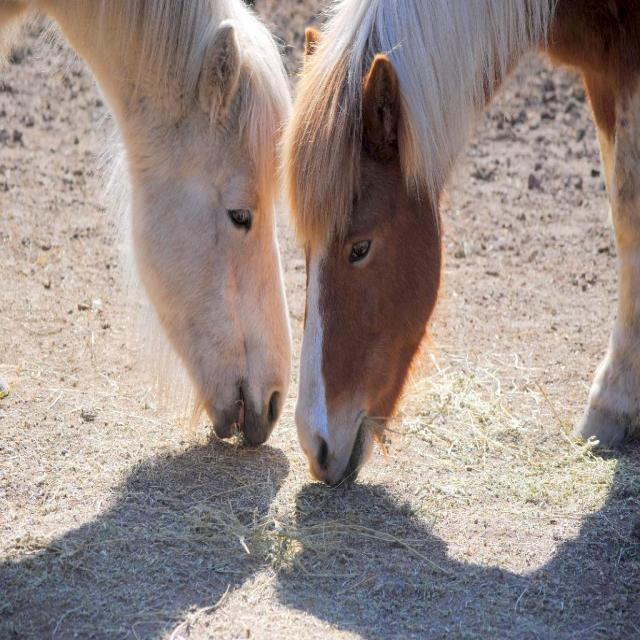Horse: (276, 0, 640, 489), (0, 0, 296, 443)
